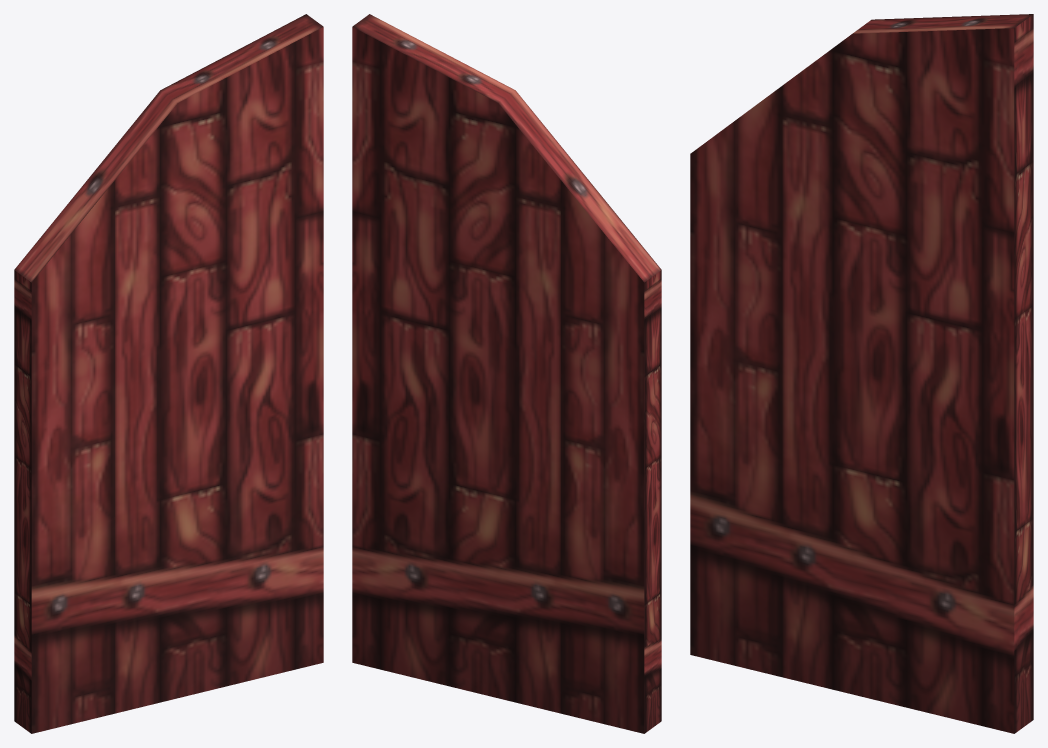
The model's file is barn_holeDoor.fbx.
3 renders of one model, left to right at view 1: azimuth 30°, elevation 25°; view 2: azimuth 150°, elevation 25°; view 3: azimuth 330°, elevation 25°, orthographic. The views are drawn at different scales.
Parts seen in each view (by area): view 1: barn_HoleDoor; view 2: barn_HoleDoor; view 3: barn_HoleDoor.
Part boxes in pixels (<box>): barn_HoleDoor: <box>14,14,323,733</box>; barn_HoleDoor: <box>352,14,661,733</box>; barn_HoleDoor: <box>690,14,1033,733</box>.
Size of the model in its own units: 1.94 by 4.03 by 0.2.
